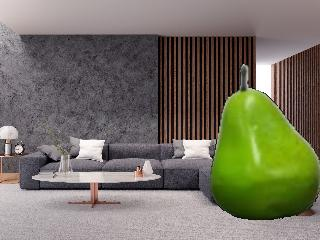pear: (210, 64, 320, 219)
